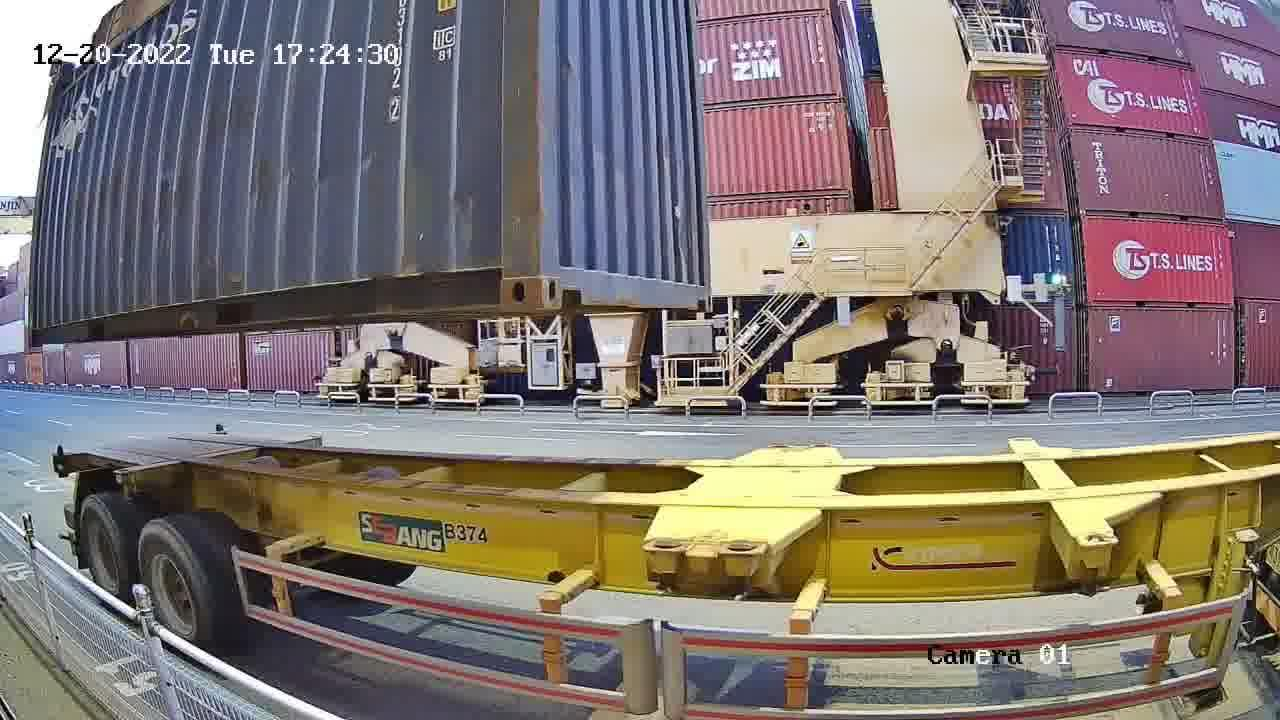Chassis: (646, 444, 794, 554), (715, 444, 846, 555)
Cone: (719, 543, 771, 604), (646, 536, 691, 598)
Hole_L: (537, 241, 592, 309)
Hole_R: (467, 243, 535, 309), (689, 277, 713, 311)
Tire: (138, 521, 214, 656), (79, 496, 130, 603)
